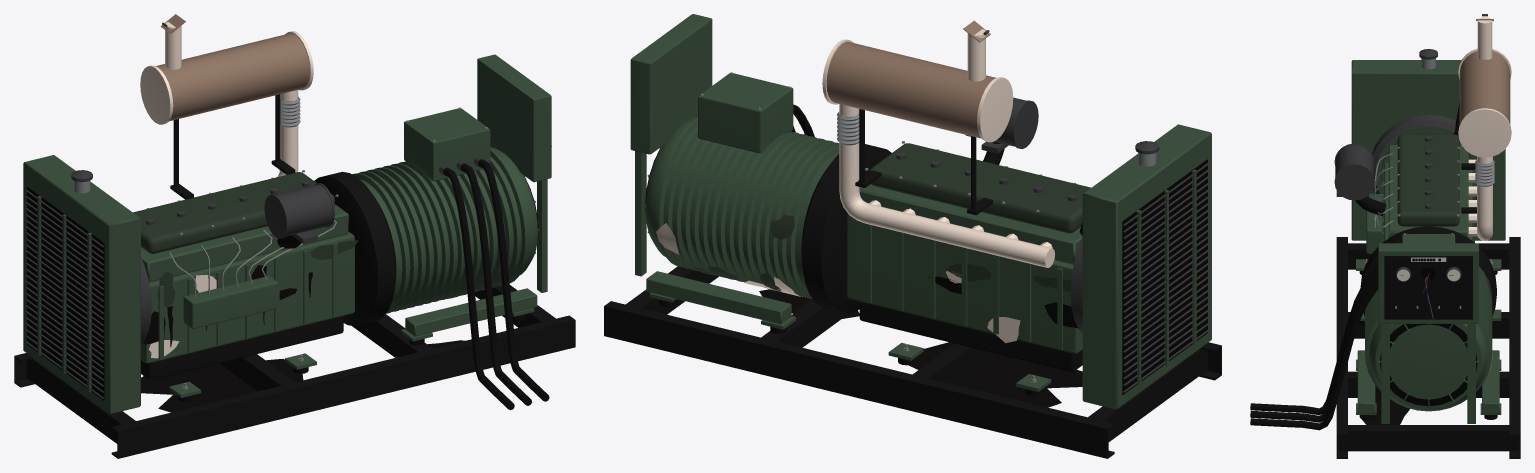
The model's file is generator.glb.
3 renders of one model, left to right at view 1: azimuth 30°, elevation 25°; view 2: azimuth 150°, elevation 25°; view 3: azimuth 270°, elevation 25°, orthographic. The views are drawn at different scales.
Parts seen in each view (by area): view 1: teil.002, teil, teil.005, teil.008, teil.004, teil.006, teil.001, teil.016, teil.007, teil.003; view 2: teil.002, teil, teil.006, teil.007, teil.008, teil.005, teil.004, teil.016, teil.003, teil.001; view 3: teil.002, teil, teil.006, teil.007, teil.001, teil.005, teil.008, teil.004, teil.003, teil.016.
Part boxes in pixels (<box>): teil.002: <box>23,54,551,413</box>; teil: <box>14,94,575,458</box>; teil.005: <box>25,22,484,398</box>; teil.008: <box>156,14,309,121</box>; teil.004: <box>27,177,538,400</box>; teil.006: <box>133,172,466,307</box>; teil.001: <box>177,159,549,410</box>; teil.016: <box>141,265,464,412</box>; teil.007: <box>140,22,313,358</box>; teil.003: <box>73,97,551,389</box>; teil.002: <box>630,14,1211,409</box>; teil: <box>604,109,1221,458</box>; teil.006: <box>694,143,1090,291</box>; teil.007: <box>656,29,1055,343</box>; teil.008: <box>826,20,995,138</box>; teil.005: <box>896,30,1209,392</box>; teil.004: <box>645,149,1207,394</box>; teil.016: <box>759,276,1082,407</box>; teil.003: <box>700,72,1156,382</box>; teil.001: <box>659,104,1082,396</box>; teil.002: <box>1351,60,1505,423</box>; teil: <box>1336,163,1520,458</box>; teil.006: <box>1397,134,1492,299</box>; teil.007: <box>1458,17,1511,373</box>; teil.001: <box>1250,102,1497,430</box>; teil.005: <box>1334,14,1487,281</box>; teil.008: <box>1459,19,1510,124</box>; teil.004: <box>1380,267,1477,406</box>; teil.003: <box>1364,58,1494,308</box>; teil.016: <box>1362,398,1409,424</box>.
Bounding box in the file's own units: 3.25 × 2.28 × 1.82.
